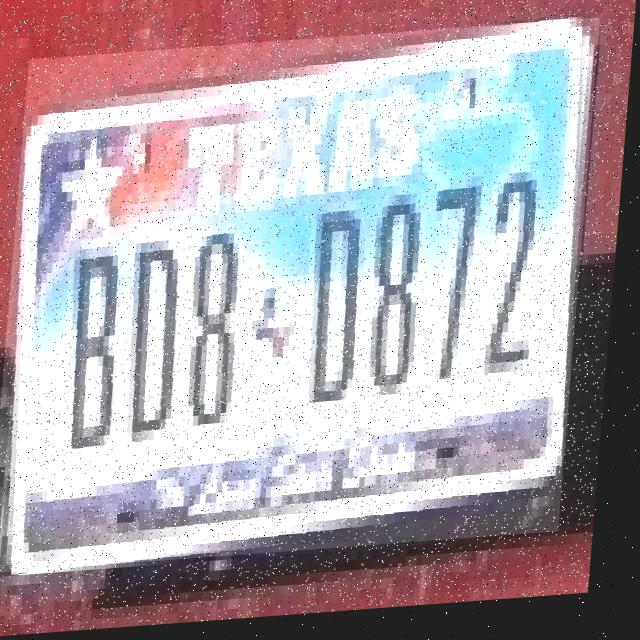LicensePlate: (0, 27, 601, 574)
